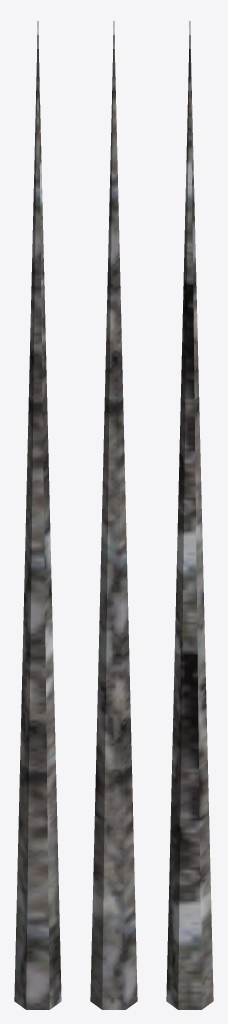
File: Trunk.fbx
3 views of the same model, side by side, from view 1: azimuth 90°, elevation 25°; view 2: azimuth 150°, elevation 25°; view 3: azimuth 270°, elevation 25° (orthographic).
Visible parts, largest first — view 1: Trunk; view 2: Trunk; view 3: Trunk.
Boxes of the visible parts, x1=… form: Trunk: x1=14, y1=21, x2=61, y2=1009; Trunk: x1=90, y1=21, x2=137, y2=1009; Trunk: x1=166, y1=21, x2=213, y2=1009.
Bounding box in the file's own units: 74.11 × 1975 × 85.57.
